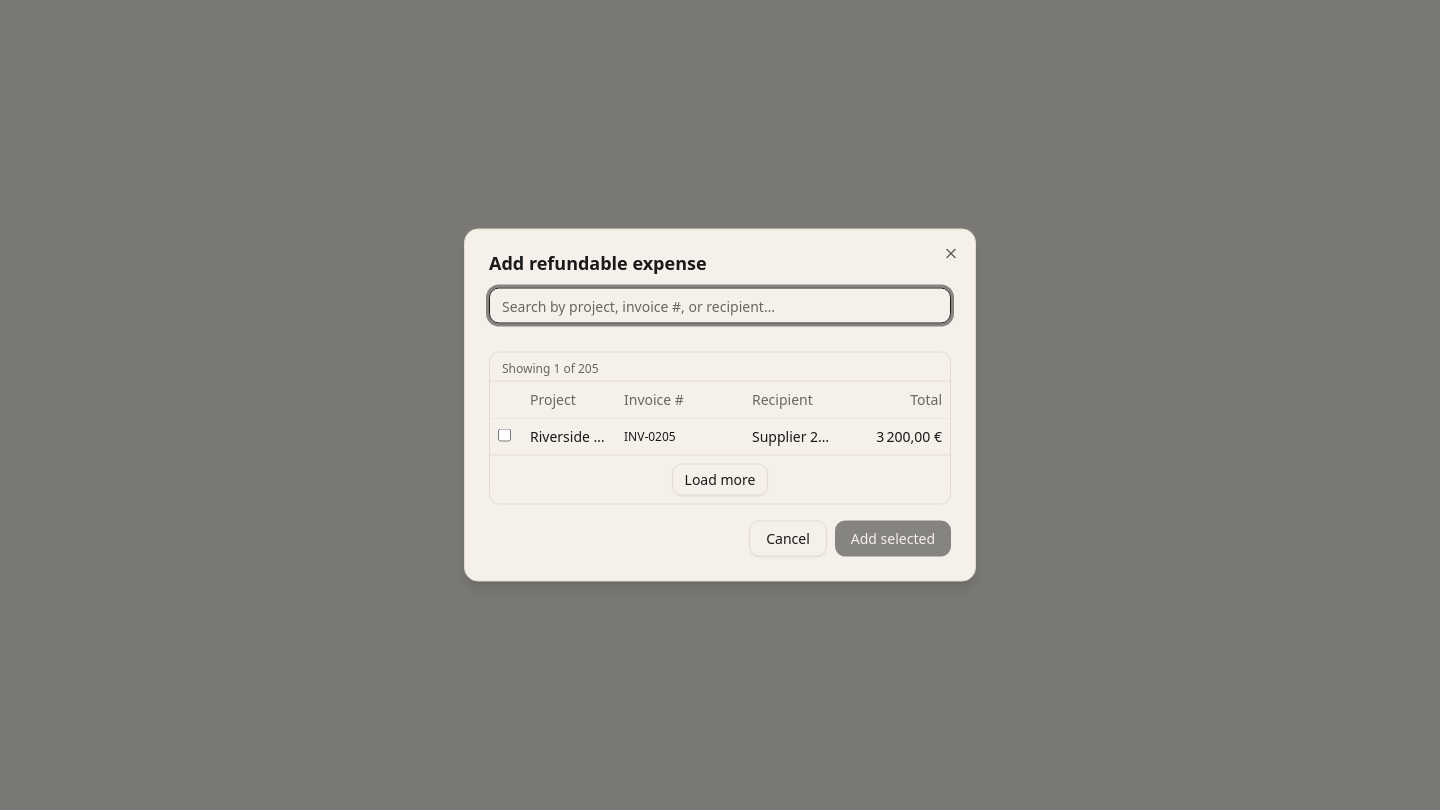
Test case: AddRefundableExpenseDialog — past the first 200 candidates › searches on the server, so an expense that was never loaded is found
This screenshot has width=1440, height=810.
expect the text "INV-0205" is shown: met, box [616, 418, 744, 454]
In the field: (720, 306) [489, 288, 951, 324], type "Supplier 000"
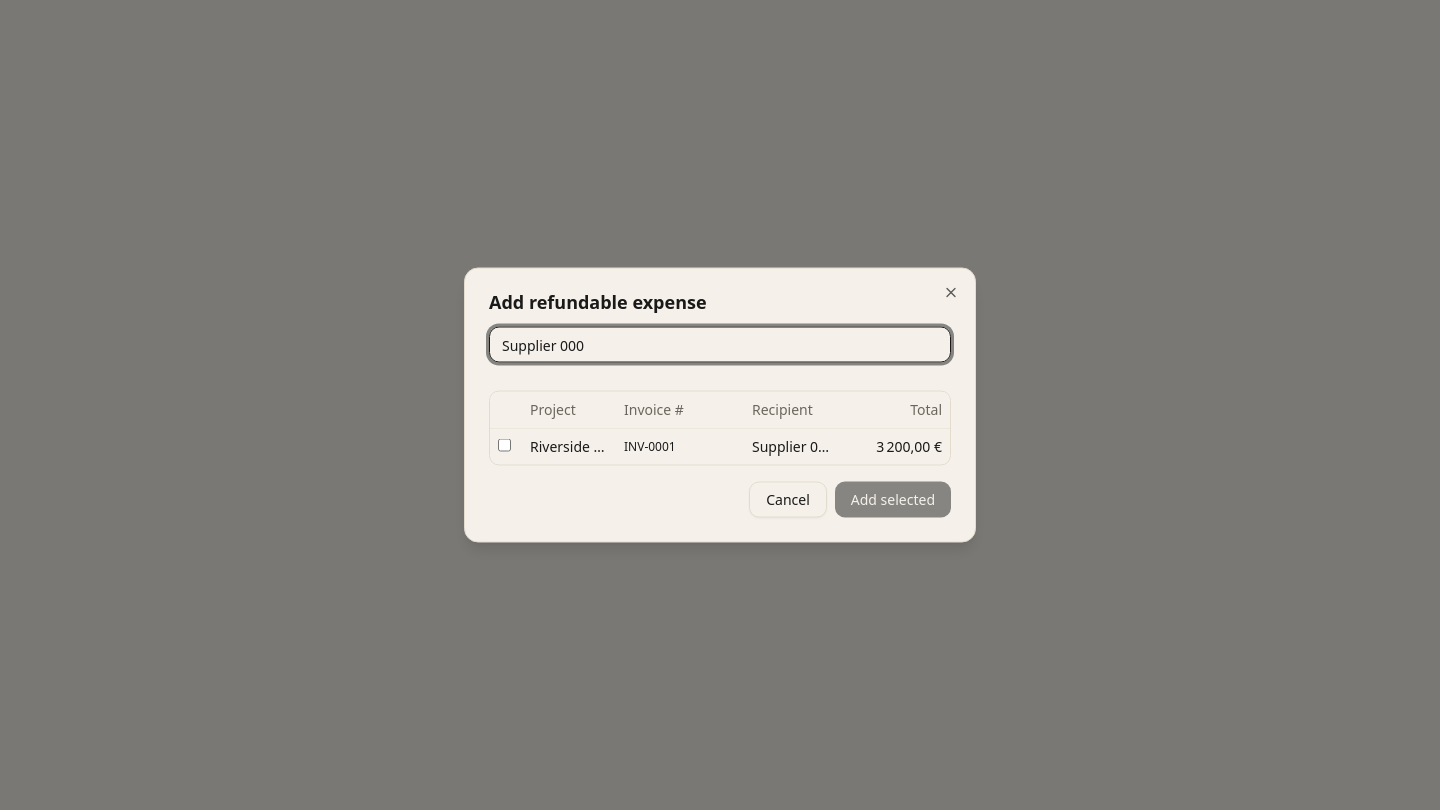
expect the text "INV-0001" is shown: met, box [616, 428, 744, 464]
expect the text "Showing 1 of 205" is gone: met
